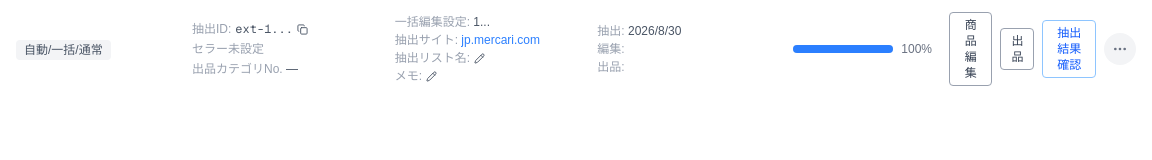
Test: ExtractionRow: メモの編集 › 鉛筆アイコンをクリックすると入力欄が表示され、Enterで保存される(PATCH)
The image size is (1152, 160).
Click the button named "メモを編集". click: [432, 76]
box: [426, 70, 437, 82]
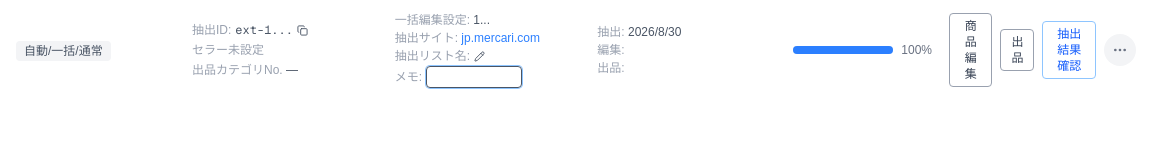
Type "希少" into the field. click: [474, 77]
box: [426, 66, 522, 88]
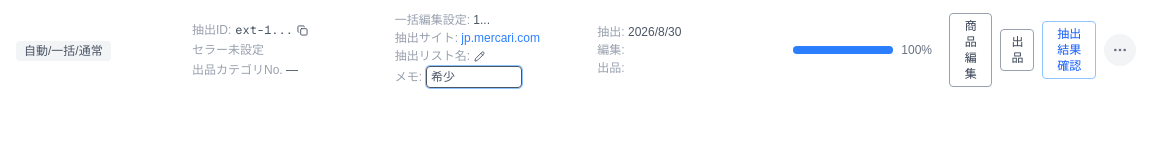
Press Enter
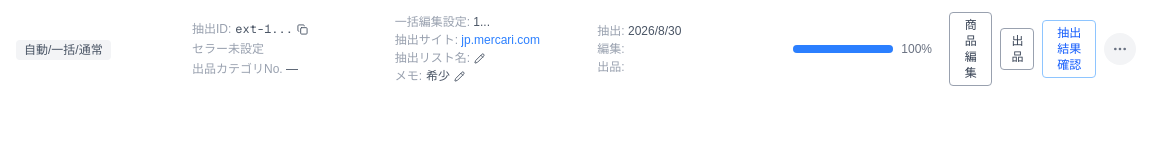
Expected: the text "希少" is shown, [426, 68, 450, 84]
